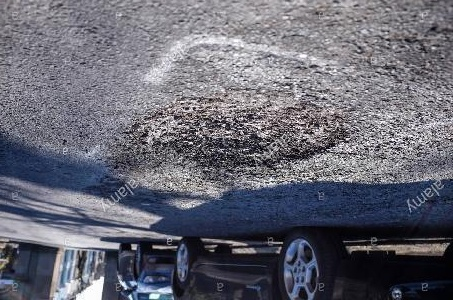pothole: (103, 87, 354, 175)
